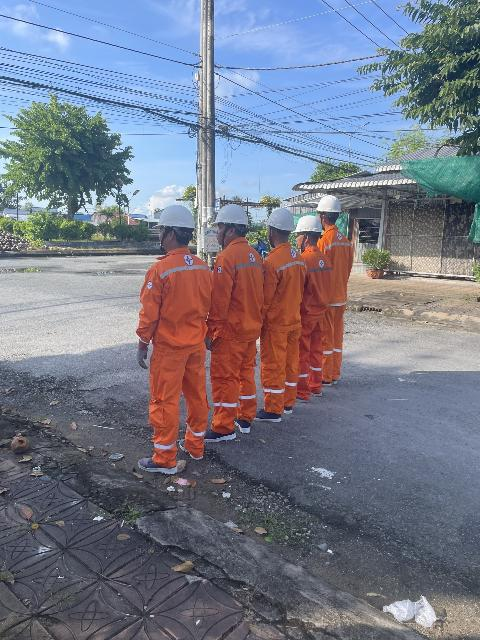gloves: (129, 340, 156, 372), (201, 335, 218, 354)
helmet: (141, 200, 202, 236), (215, 200, 256, 230), (291, 204, 323, 238), (259, 209, 299, 236), (312, 193, 347, 214)
shoes: (295, 369, 346, 407), (126, 454, 185, 477), (203, 420, 237, 448), (176, 433, 209, 459), (252, 399, 285, 425), (229, 407, 253, 437), (276, 403, 297, 419)
